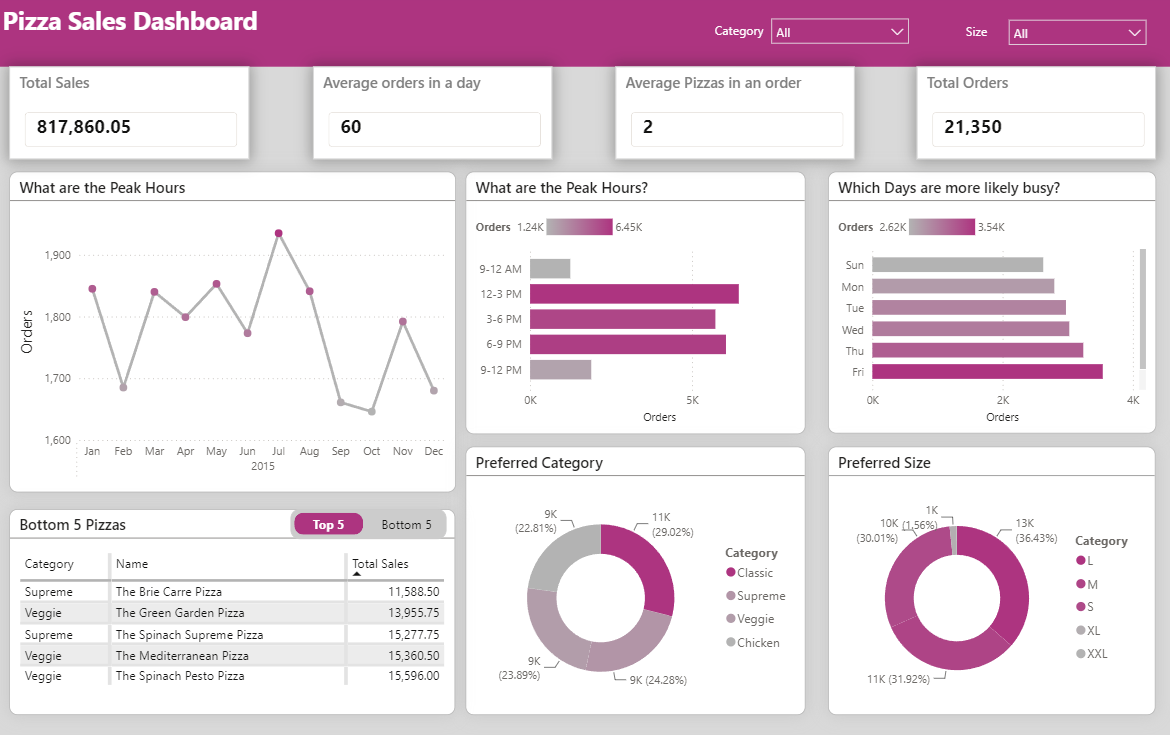

The page's visual inventory and layout, read from the dashboard file:
{"tool":"powerbi","page":{"name":"Page 1","canvas":[1280,800],"ordinal":0},"visuals":[{"type":"textbox","box":[0,0,1280.1,73.3],"z":0},{"type":"barChart","title":"What are the Peak Hours?","fields":{"Category":["Orders.Time Slot"],"Y":["All Measures.Orders"]},"box":[508.2,187.5,369.6,285.3],"z":1000},{"type":"barChart","title":"Which Days are more likely busy?","fields":{"Category":["Date Table.Day"],"Y":["All Measures.Orders"]},"box":[902.3,188,357.2,284.9],"z":2000},{"type":"lineChart","title":"What are the Peak Hours","fields":{"Y":["All Measures.Orders"],"Category":["Date Table.Year","Date Table.Month"]},"box":[11.6,188,485.9,348.5],"z":3000},{"type":"donutChart","title":"Preferred Category","fields":{"Y":["All Measures.Orders"],"Category":["Pizza Types.Category"]},"box":[508.2,486.4,369.6,292.1],"z":4000},{"type":"donutChart","title":"Preferred Size","fields":{"Y":["All Measures.Orders"],"Category":["Pizzas.Size"]},"box":[902.2,486.4,356,292.1],"z":5000},{"type":"tableEx","title":"Bottom 5 Pizzas","fields":{"Values":["Pizza Types.Category","Pizza Types.Name","All Measures.Total Sales"]},"box":[12.2,554.4,485.1,224.2],"z":7000},{"type":"bookmarkNavigator","box":[317.9,554.4,169.8,32.6],"z":8000},{"type":"cardVisual","title":"Total Sales","fields":{"Data":["All Measures.Total Sales"]},"box":[12.2,73.4,260.9,100.5],"z":9000},{"type":"cardVisual","title":"Average orders in a day","fields":{"Data":["All Measures.Avg orders in a day"]},"box":[342.4,73.4,260,100.5],"z":10000},{"type":"cardVisual","title":"Average Pizzas in an order","fields":{"Data":["All Measures.Avg Pizzas Per Order"]},"box":[671.2,73.4,260,100.5],"z":11000},{"type":"cardVisual","title":"Total Orders","fields":{"Data":["All Measures.Orders"]},"box":[999.2,73.7,260,100.5],"z":12000},{"type":"slicer","fields":{"Values":["Pizza Types.Category"]},"box":[830.2,10.9,169.8,74.7],"z":13000,"group":"g1"},{"type":"slicer","fields":{"Values":["Pizzas.Size"]},"box":[1088.5,12.3,169.8,74.7],"z":13000,"group":"g2"},{"type":"shape","box":[733.7,0,144,66.6],"z":14000,"group":"g1"},{"type":"shape","box":[992,1.4,144,66.6],"z":14000,"group":"g2"},{"type":"group","id":"g1","title":"Group 1","box":[733.7,0,266.3,85.6],"z":14001},{"type":"group","id":"g2","title":"Group 1","box":[992,1.4,266.1,85.3],"z":14002}]}

Visuals, with their boxes in screenshot pixels (x1, y1, x2, y2), scaled from the page's 1280x800 canvas onto the 1170x735 screenshot:
textbox: (x1=0, y1=0, x2=1169, y2=67)
"What are the Peak Hours?" barChart: (x1=465, y1=172, x2=802, y2=434)
"Which Days are more likely busy?" barChart: (x1=825, y1=173, x2=1151, y2=434)
"What are the Peak Hours" lineChart: (x1=11, y1=173, x2=455, y2=493)
"Preferred Category" donutChart: (x1=465, y1=447, x2=802, y2=715)
"Preferred Size" donutChart: (x1=825, y1=447, x2=1150, y2=715)
"Bottom 5 Pizzas" tableEx: (x1=11, y1=509, x2=455, y2=715)
bookmarkNavigator: (x1=291, y1=509, x2=446, y2=539)
"Total Sales" cardVisual: (x1=11, y1=67, x2=250, y2=160)
"Average orders in a day" cardVisual: (x1=313, y1=67, x2=551, y2=160)
"Average Pizzas in an order" cardVisual: (x1=614, y1=67, x2=851, y2=160)
"Total Orders" cardVisual: (x1=913, y1=68, x2=1151, y2=160)
slicer - Pizza Types.Category: (x1=759, y1=10, x2=914, y2=79)
slicer - Pizzas.Size: (x1=995, y1=11, x2=1150, y2=80)
shape: (x1=671, y1=0, x2=802, y2=61)
shape: (x1=907, y1=1, x2=1038, y2=62)
"Group 1" group: (x1=671, y1=0, x2=914, y2=79)
"Group 1" group: (x1=907, y1=1, x2=1150, y2=80)
